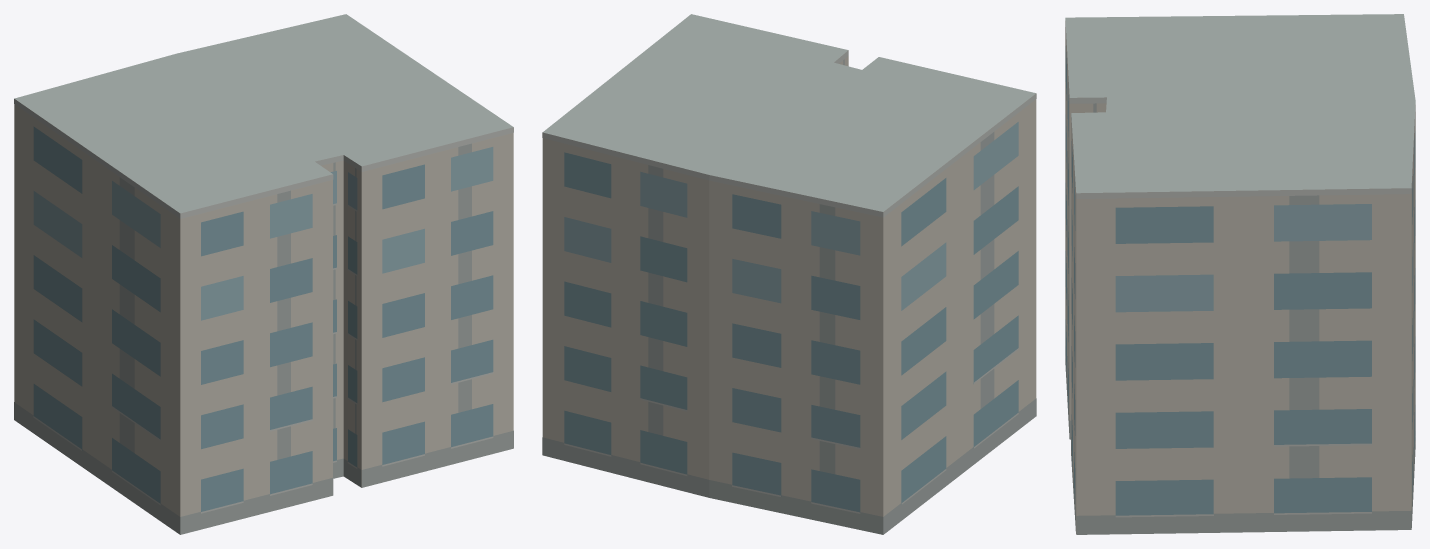
Rendered from survey-upis-32885163.glb.
3 renders of one model, left to right at view 1: azimuth 30°, elevation 25°; view 2: azimuth 150°, elevation 25°; view 3: azimuth 270°, elevation 25°, orthographic. The views are drawn at different scales.
Visible parts, largest first — view 1: survey-upis-32885163.tmp; view 2: survey-upis-32885163.tmp; view 3: survey-upis-32885163.tmp.
Part boxes in pixels (box(x1,y1,x2,y2)): survey-upis-32885163.tmp: box(14, 14, 513, 534); survey-upis-32885163.tmp: box(542, 14, 1036, 534); survey-upis-32885163.tmp: box(1065, 14, 1415, 534).
Bounding box in the file's own units: 15.87 × 14.1 × 13.11.
